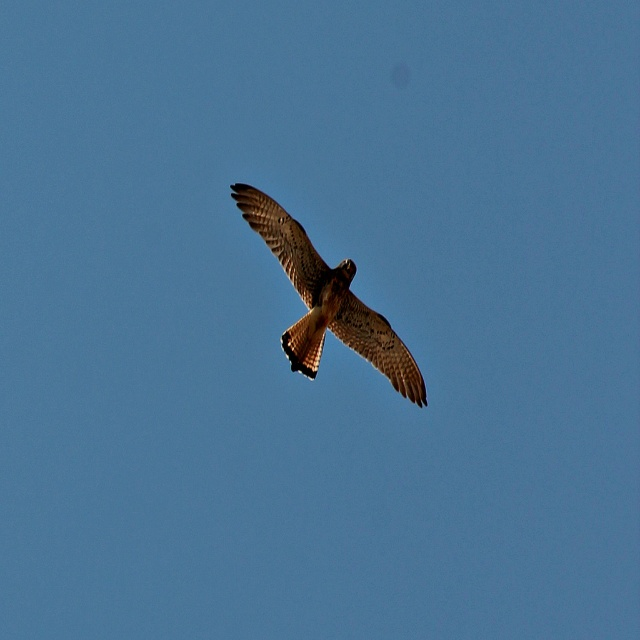Eagle: (233, 181, 433, 416)
